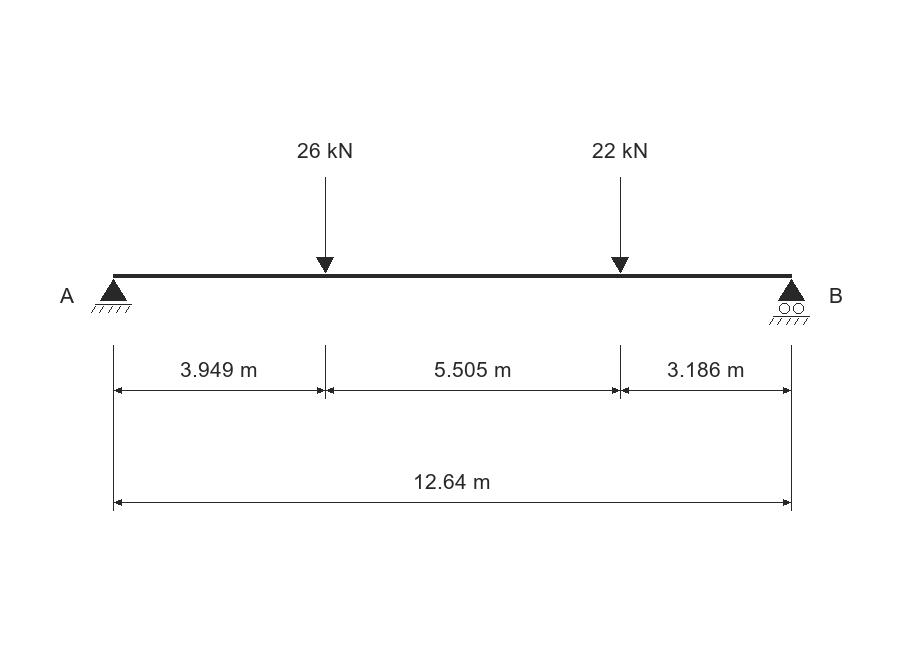pin_support: (91, 279, 132, 313)
point_load: (316, 177, 334, 273), (611, 177, 629, 273)
roller_support: (769, 279, 810, 325)
